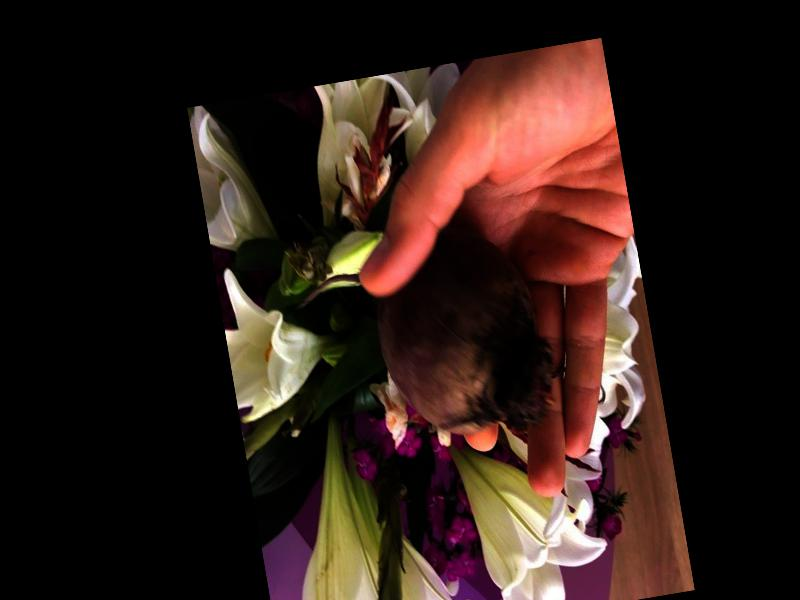Beet: (288, 218, 557, 462)
